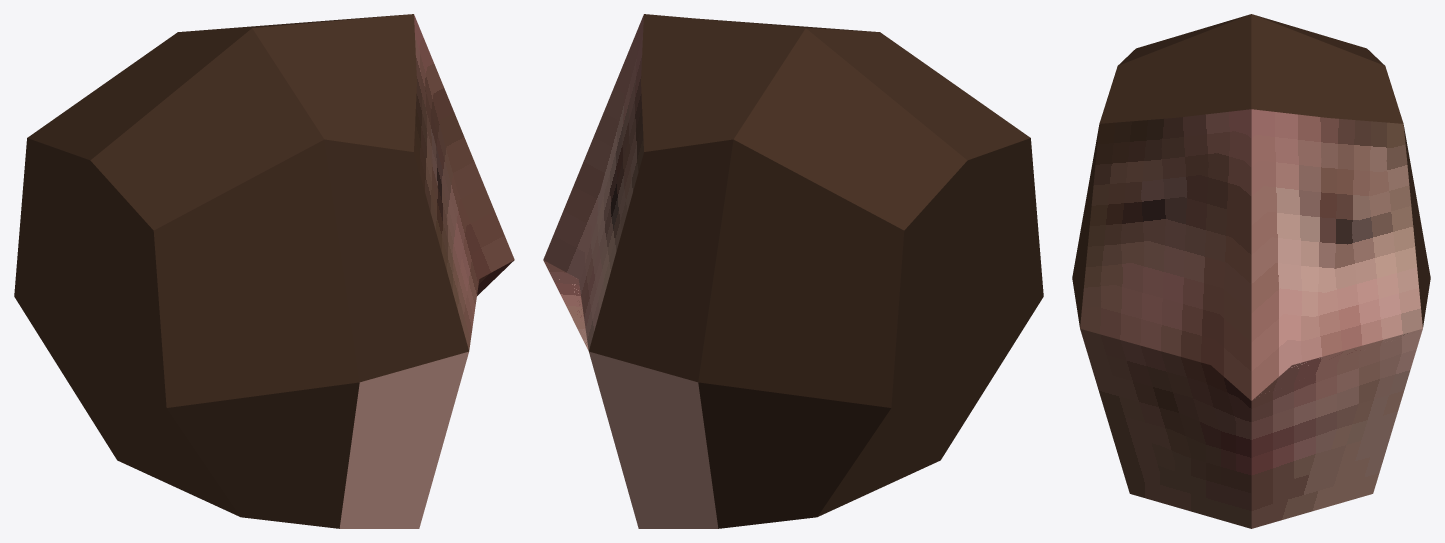
The model's file is Head.glb.
3 views of the same model, side by side, from view 1: azimuth 30°, elevation 25°; view 2: azimuth 150°, elevation 25°; view 3: azimuth 270°, elevation 25° (orthographic). The views are drawn at different scales.
Parts seen in each view (by area): view 1: Cube; view 2: Cube; view 3: Cube.
Part boxes in pixels (x1,y1,x2,y2): Cube: (14,14,514,528); Cube: (543,14,1043,528); Cube: (1072,14,1430,528).
Size of the model in its own units: 2.31 by 2.48 by 1.86.
1 material, 1 textured.
